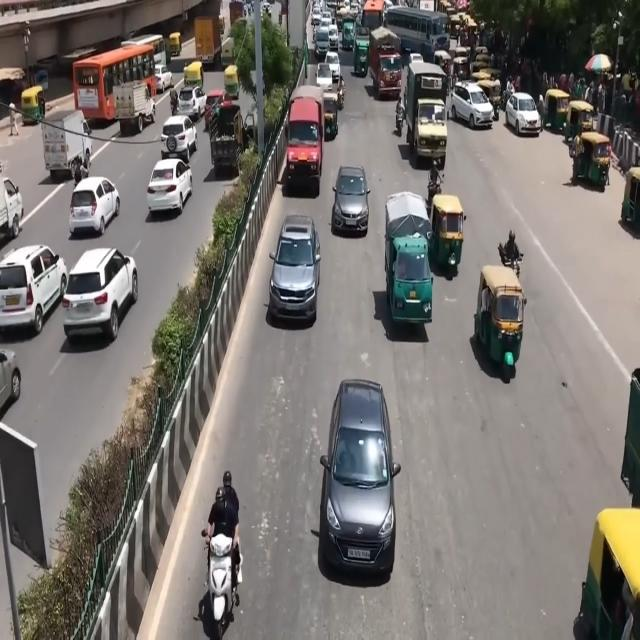auto: (577, 505, 640, 637), (474, 264, 526, 382), (430, 194, 466, 276), (571, 130, 612, 190), (564, 99, 595, 145), (475, 76, 503, 120), (543, 88, 570, 133), (621, 168, 640, 230), (20, 86, 44, 125), (322, 90, 340, 140), (352, 31, 370, 77), (433, 49, 453, 80), (183, 61, 204, 90), (223, 65, 240, 100), (220, 34, 236, 68), (453, 53, 470, 81), (341, 17, 355, 51), (168, 32, 182, 57)
bike-auto: (207, 472, 240, 640), (207, 472, 240, 593), (369, 38, 402, 99), (502, 230, 522, 268), (336, 73, 346, 109), (170, 88, 178, 116)
